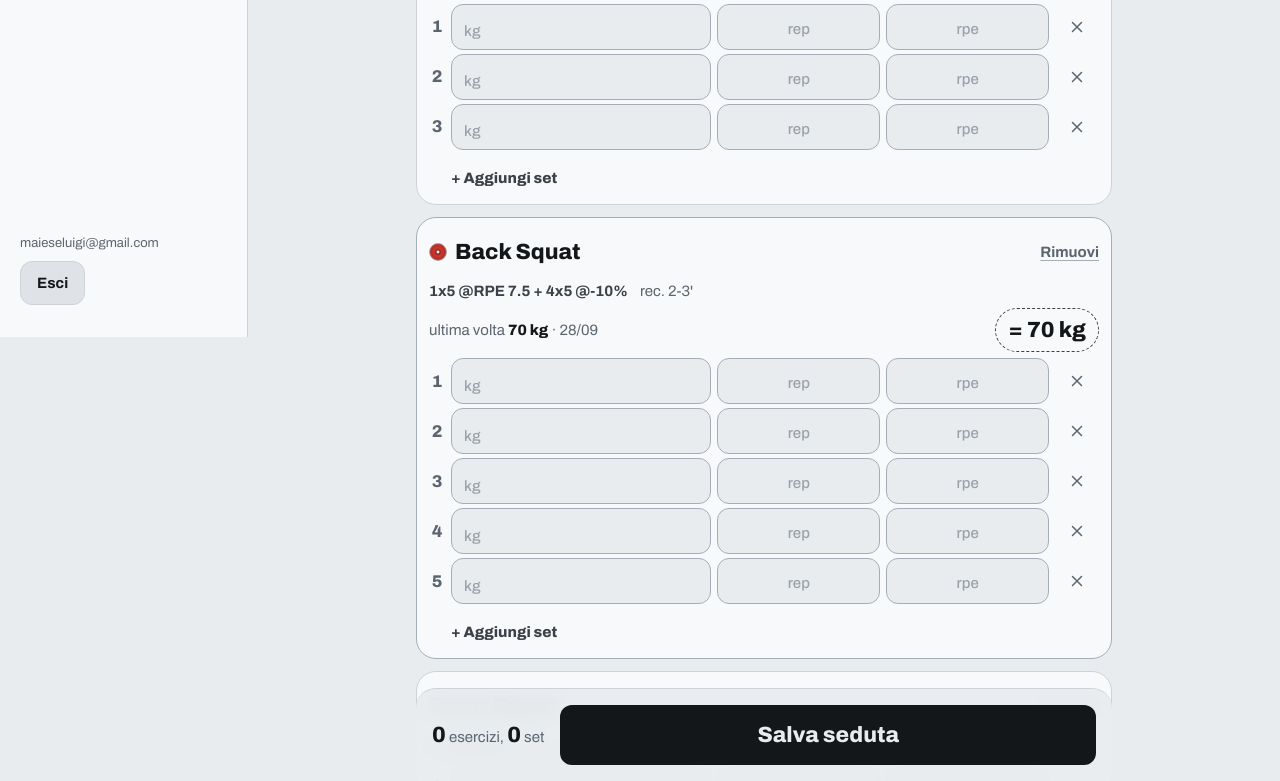
Test: Registra › shows Italian errors inline and does not save invalid input
(page scrolled)
In the field named "Back Squat, set 1, RPE": (968, 381) x1=886 y1=358 x2=1049 y2=404, type "8"
(page scrolled)
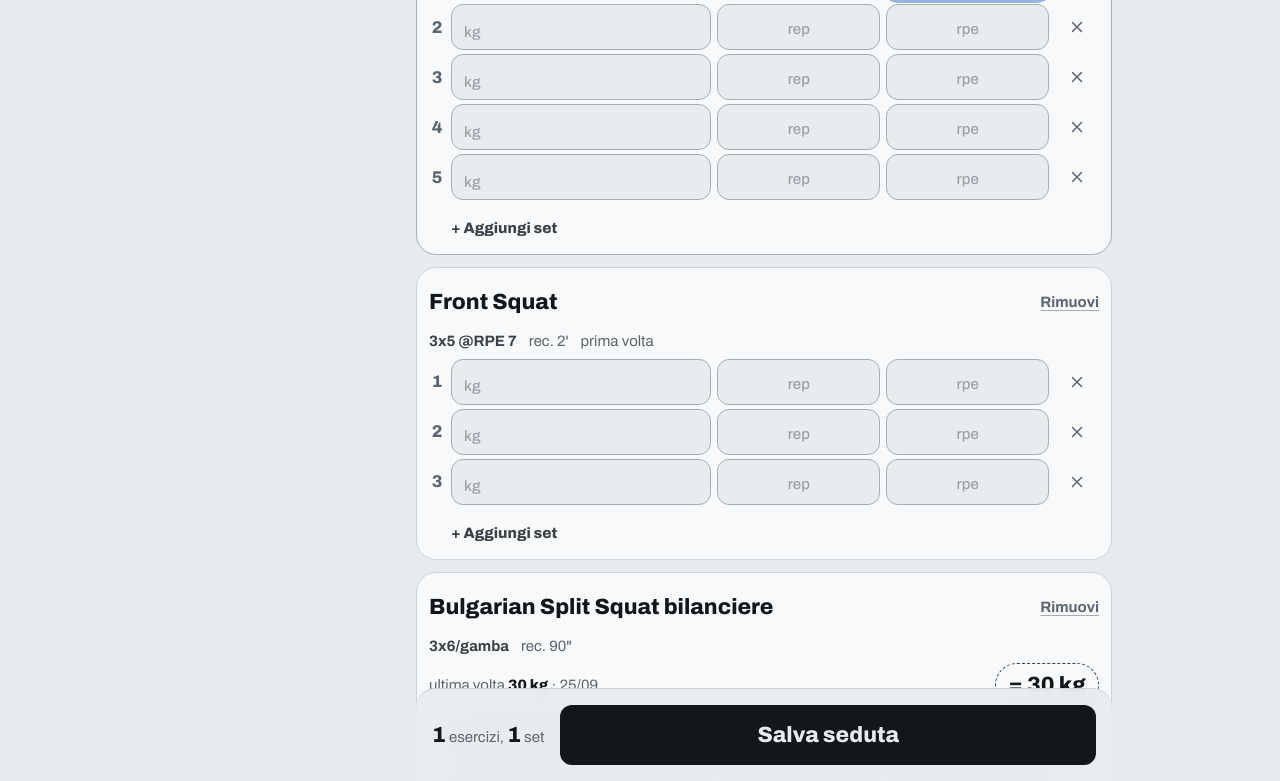
In the field named "Front Squat, set 1, kg": (581, 382) x1=451 y1=359 x2=711 y2=405, type "900"
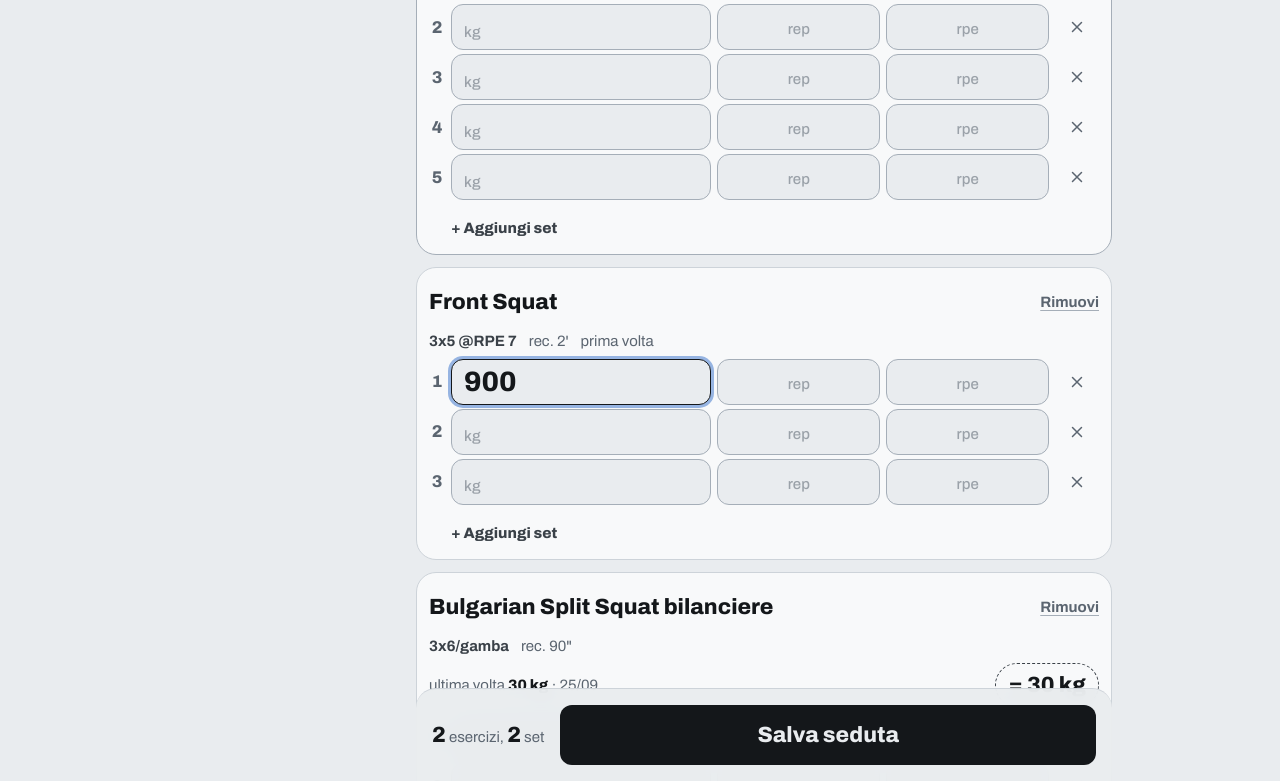
Click the button "Salva seduta": click(828, 735) x1=560 y1=705 x2=1096 y2=765
(page scrolled)
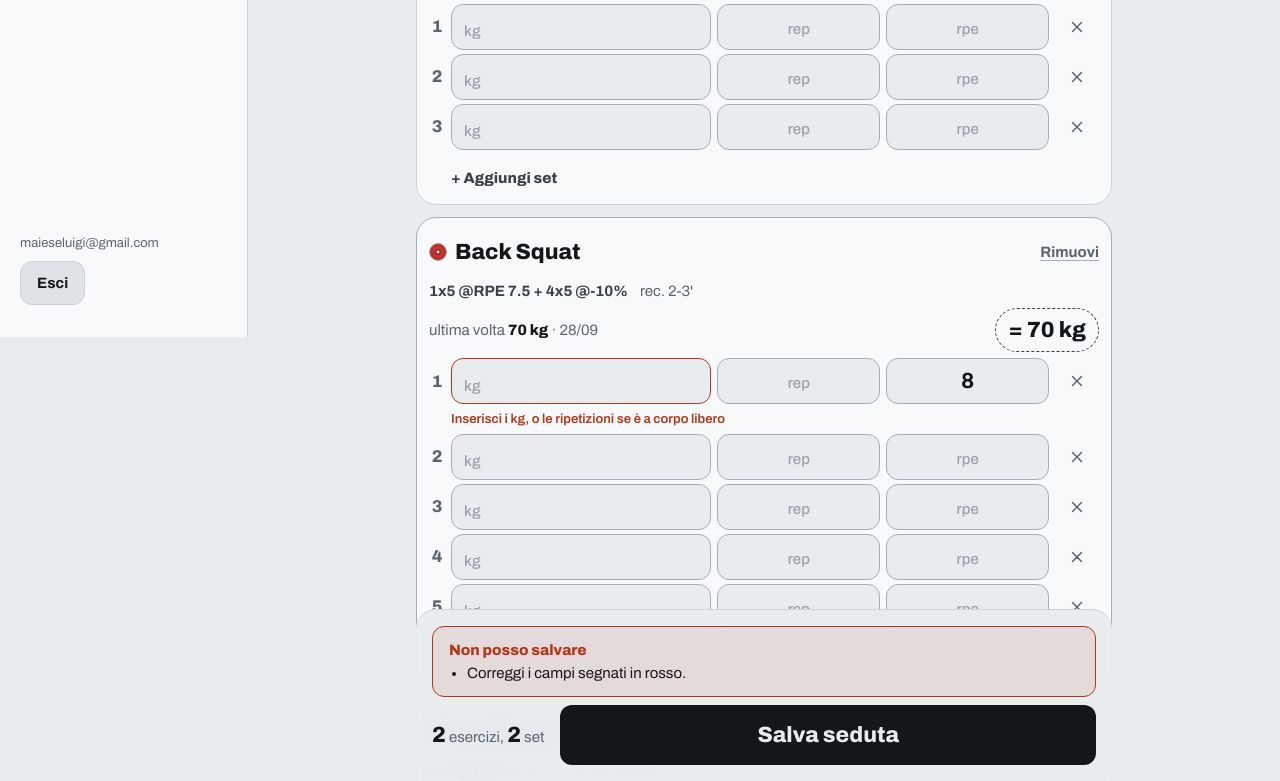
Expected: the message shows "Correggi i campi segnati in rosso.", x1=467 y1=664 x2=686 y2=680
Expected: the text "Inserisci i kg, o le ripetizioni se è a corpo libero" is shown, x1=451 y1=412 x2=725 y2=426
